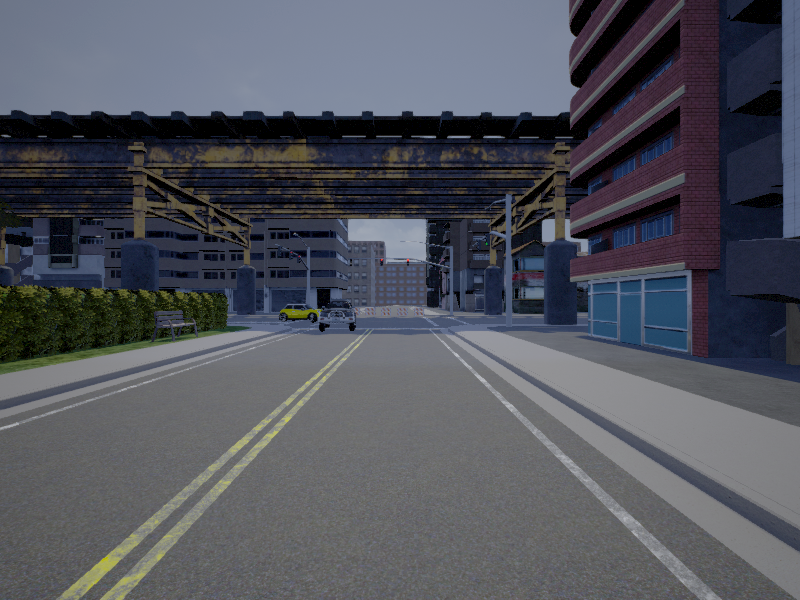Benign: (318, 301, 355, 328), (283, 305, 323, 322)
